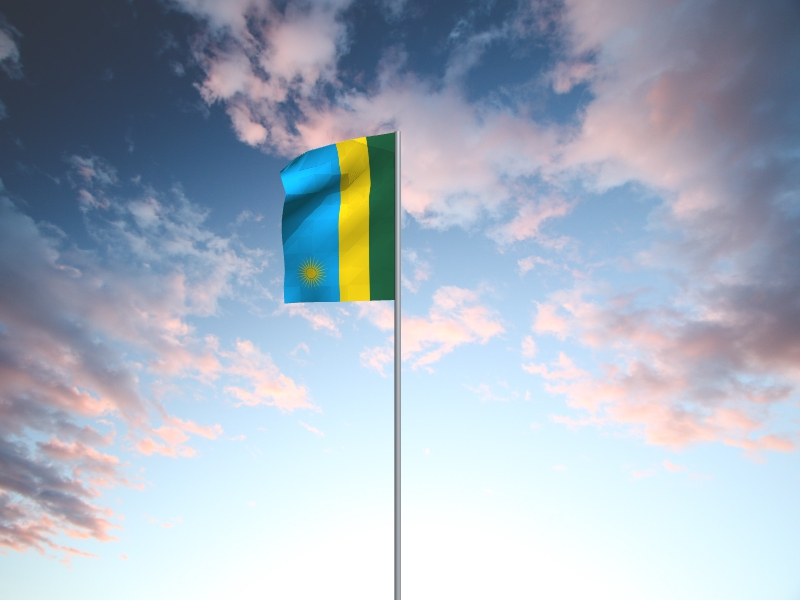rw: (279, 133, 394, 305)
